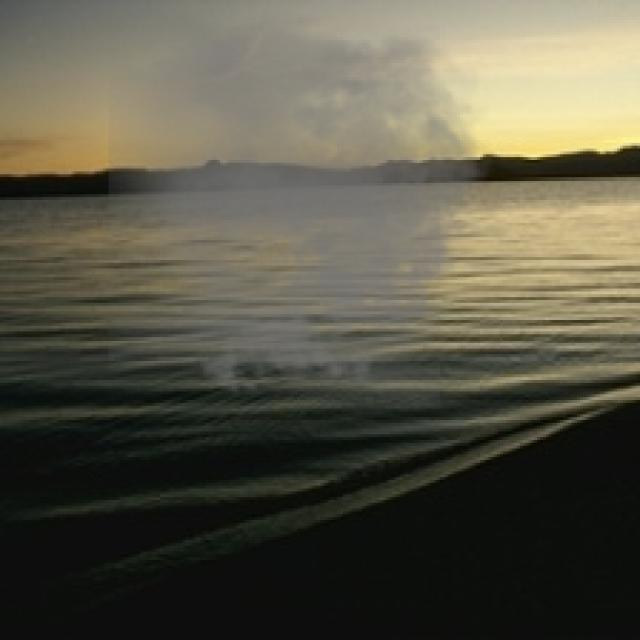smoke: (108, 11, 506, 406)
